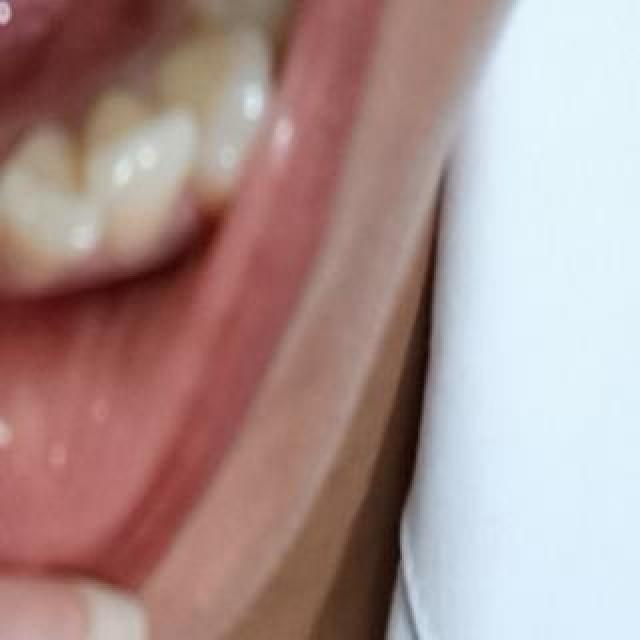maligned: (91, 51, 193, 265), (0, 98, 94, 290), (0, 128, 2, 308)
